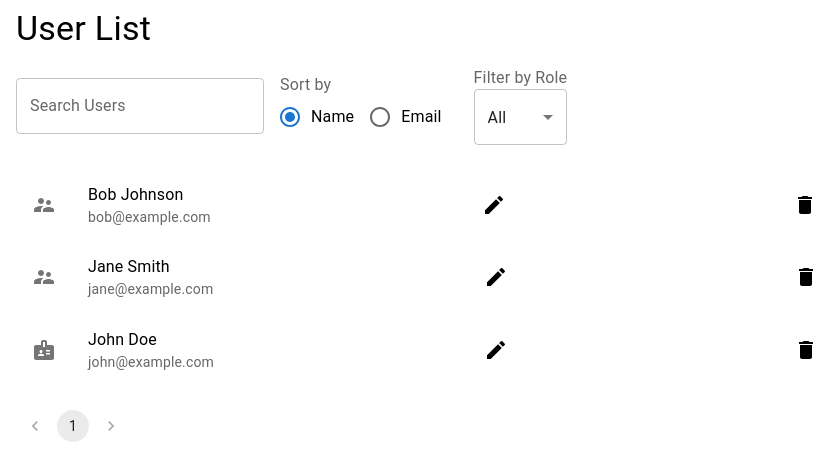
Test: UserEmployeeListSchwer › should filter users based on search term
Check: the text "John Doe" is shown, box [88,330,157,348]
Type "Jane" into the field labelled "Search Users" at (140, 106), box [16,78,264,134]
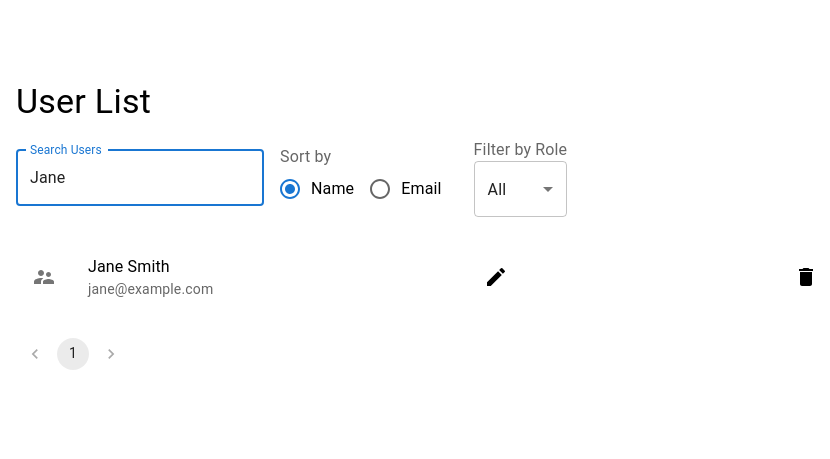
Check: the text "Jane Smith" is shown, box [88,258,170,276]
Check: the text "John Doe" is gone
